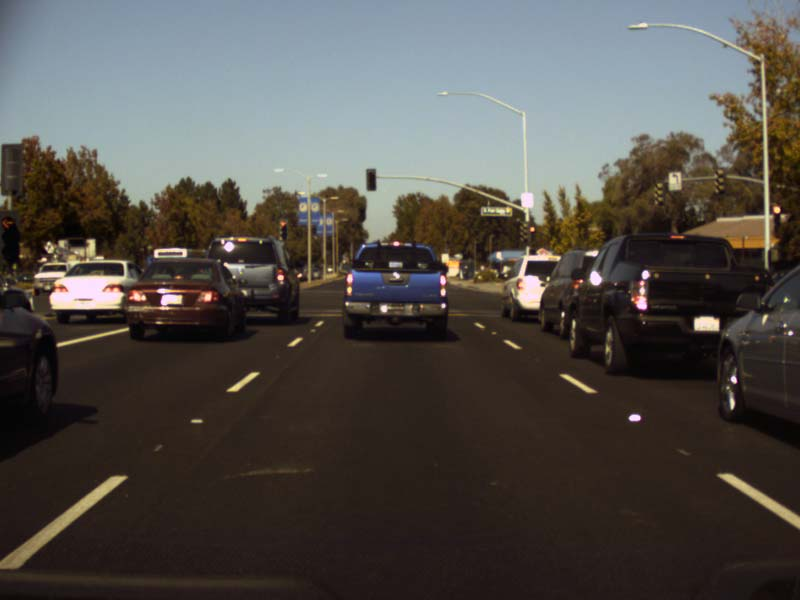Red: (1, 217, 18, 262), (771, 206, 780, 233), (280, 220, 286, 239), (530, 226, 536, 243)
